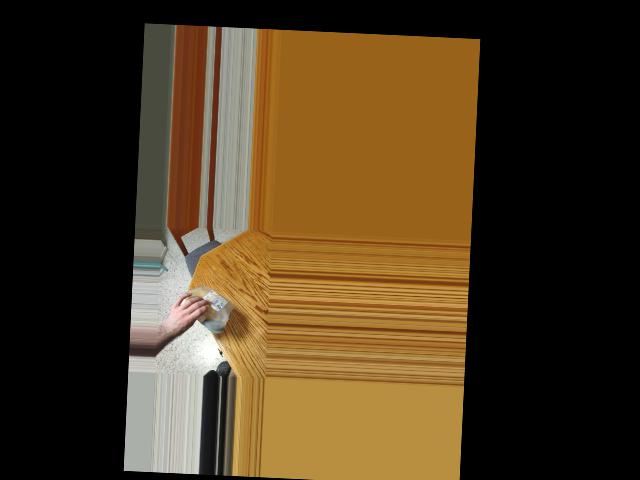cheese: (175, 282, 233, 331)
